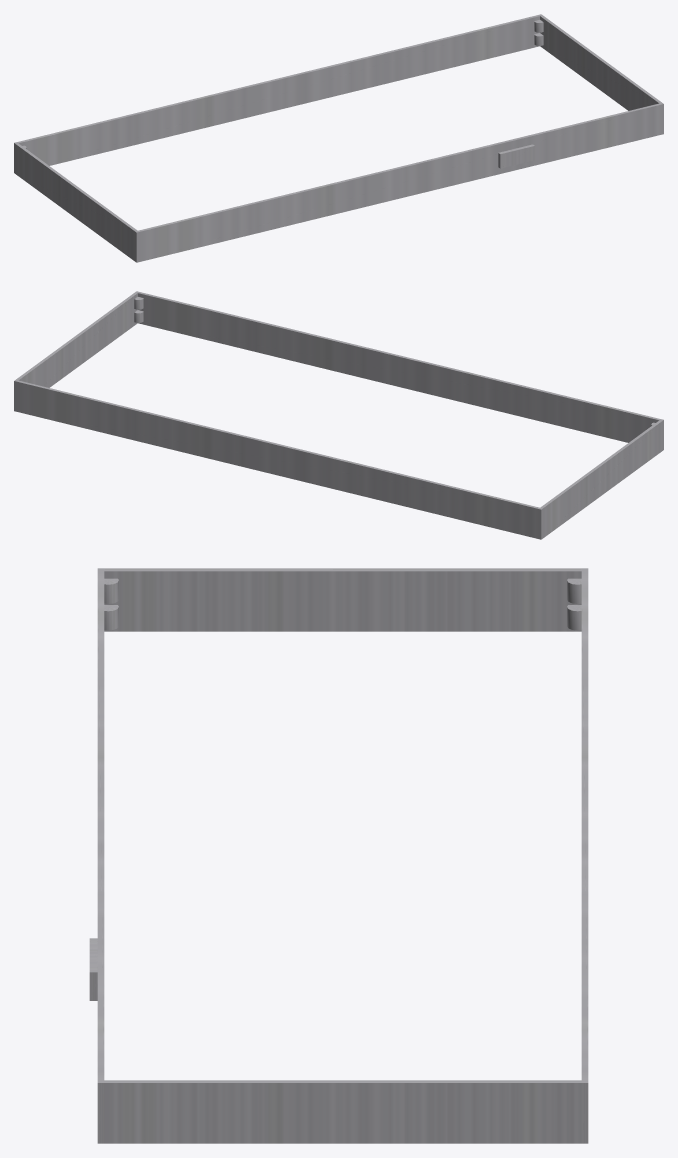
Rendered from CastingFrame.obj.
The picture shows the model from 3 angles, top to bottom: view 1: azimuth 30°, elevation 25°; view 2: azimuth 150°, elevation 25°; view 3: azimuth 270°, elevation 25°; orthographic projection. The views are drawn at different scales.
Parts seen in each view (by area): view 1: Alu; view 2: Alu; view 3: Alu.
Boxes of the visible parts, box(x1,y1,x2,y2) form: Alu: box(14, 14, 663, 262); Alu: box(14, 291, 663, 539); Alu: box(89, 568, 588, 1143).
Bounding box in the file's own units: 0.4572 × 0.025 × 0.1872.
Materials: 1 (1 with a texture image).
